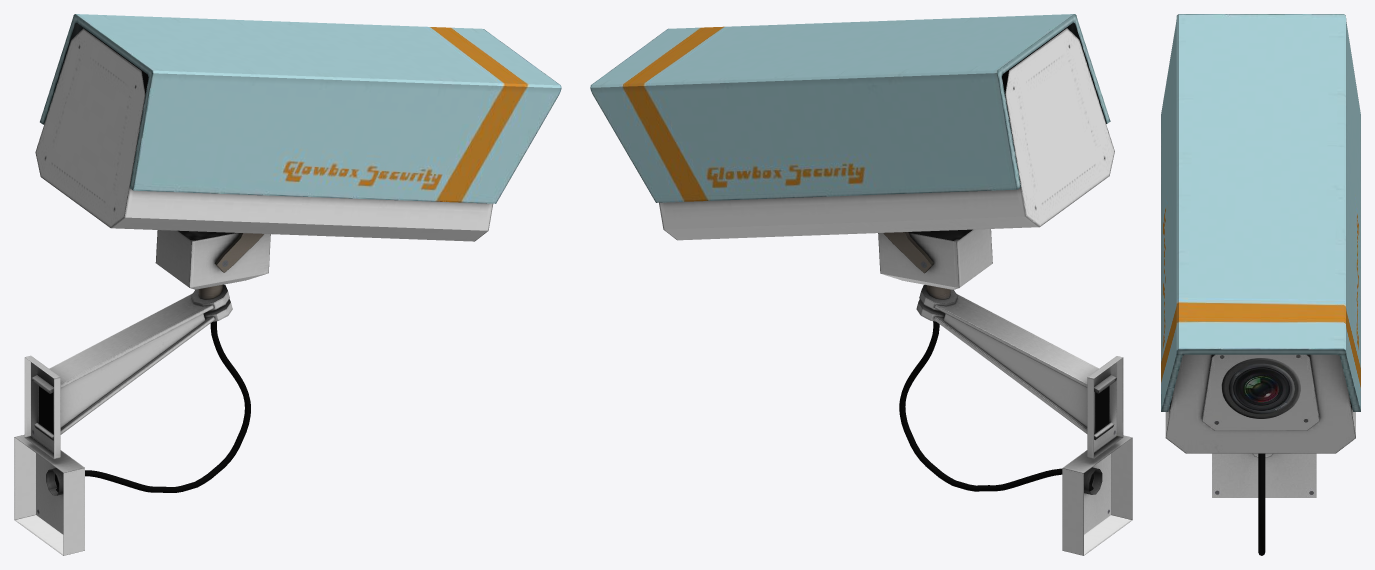
The model's file is glowbox_1970s_security_camera.glb.
The picture shows the model from 3 angles, left to right: view 1: azimuth 30°, elevation 25°; view 2: azimuth 150°, elevation 25°; view 3: azimuth 270°, elevation 25°; orthographic projection. The views are drawn at different scales.
Parts seen in each view (by area): view 1: lambert1; view 2: lambert1; view 3: lambert1.
Part boxes in pixels (bbox=[...]): lambert1: bbox=[14, 14, 561, 555]; lambert1: bbox=[590, 14, 1132, 555]; lambert1: bbox=[1161, 14, 1360, 555].
Size of the model in its own units: 504 by 479 by 169.
Materials: 1 (1 with a texture image).
